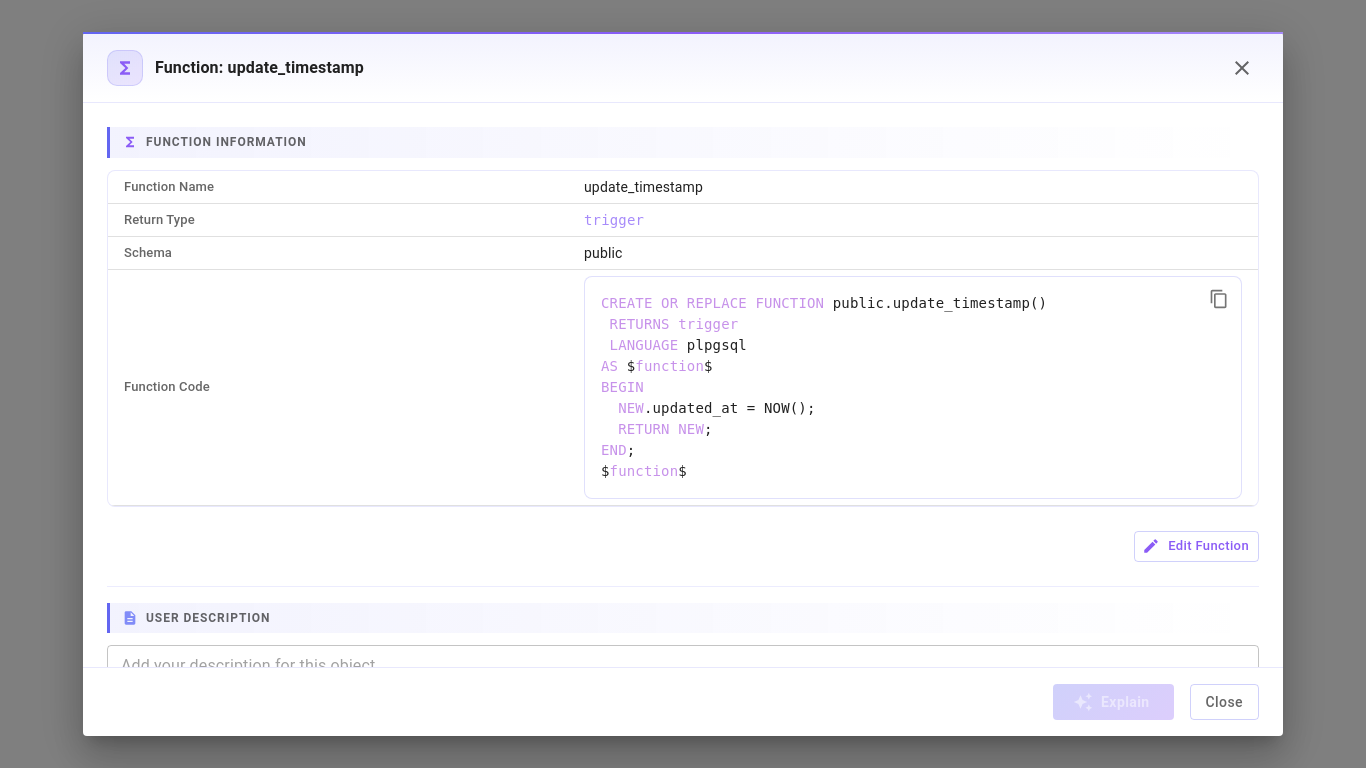
Test: ElementDetailsModal – function inline editing › entering edit mode › shows the function editor textarea after clicking "Edit Function"
# Before clicking there should be only the description textbox (1 textarea)
Click the button "Edit Function". click: (1197, 546)
box: [1134, 531, 1259, 562]
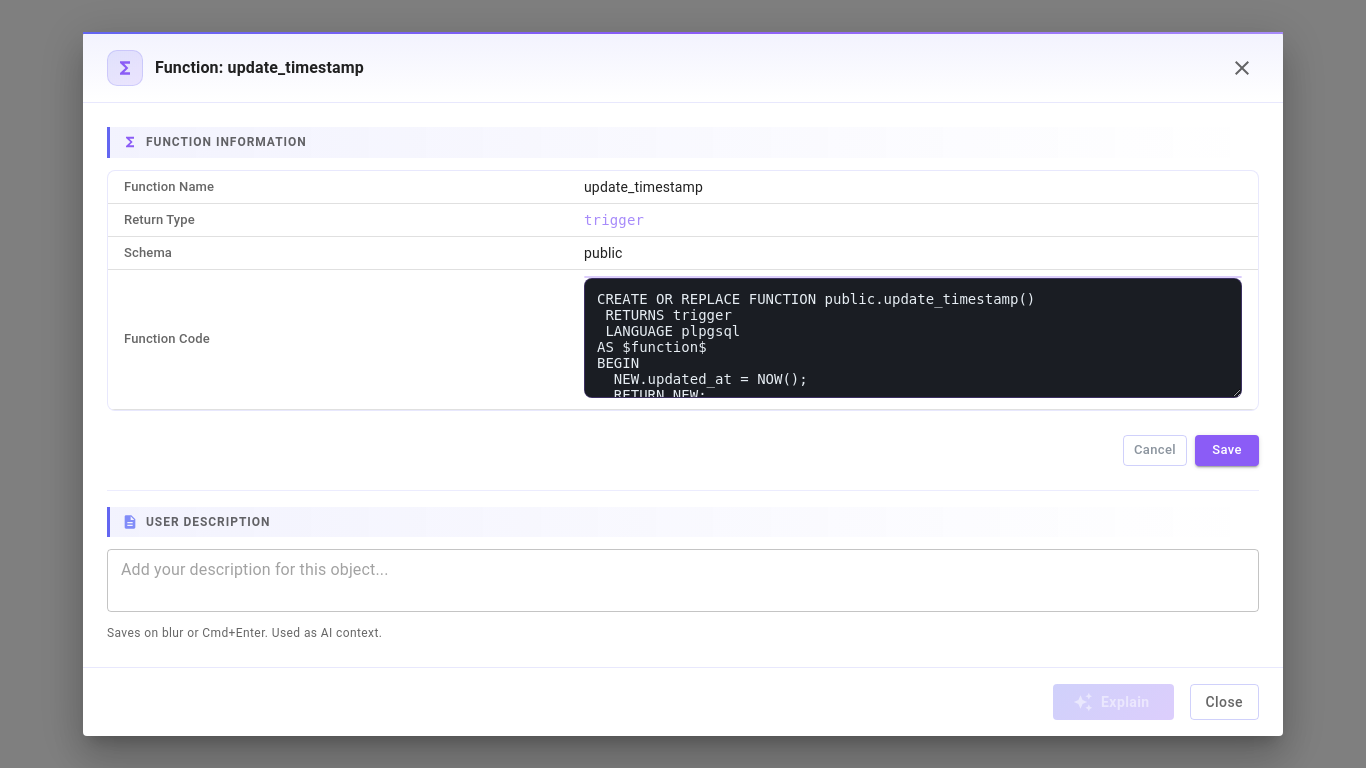
Expected: the number of text boxes is 2, [584, 278, 1242, 398]; [121, 558, 1245, 604]
